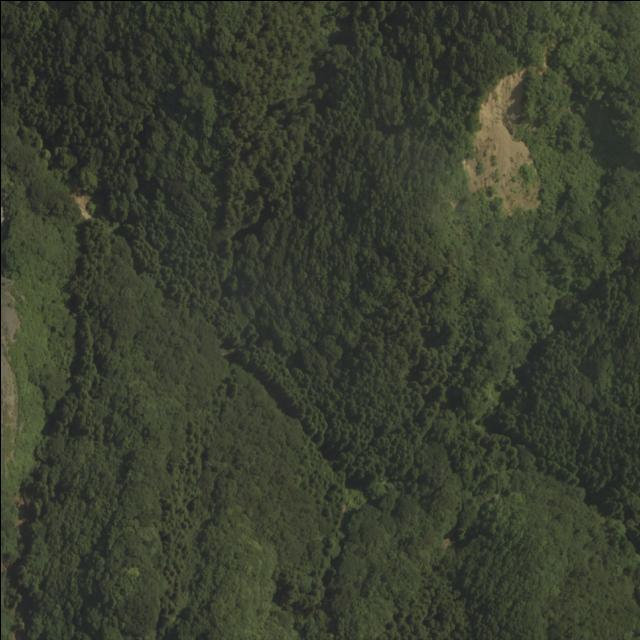landslide: (463, 69, 541, 213)
